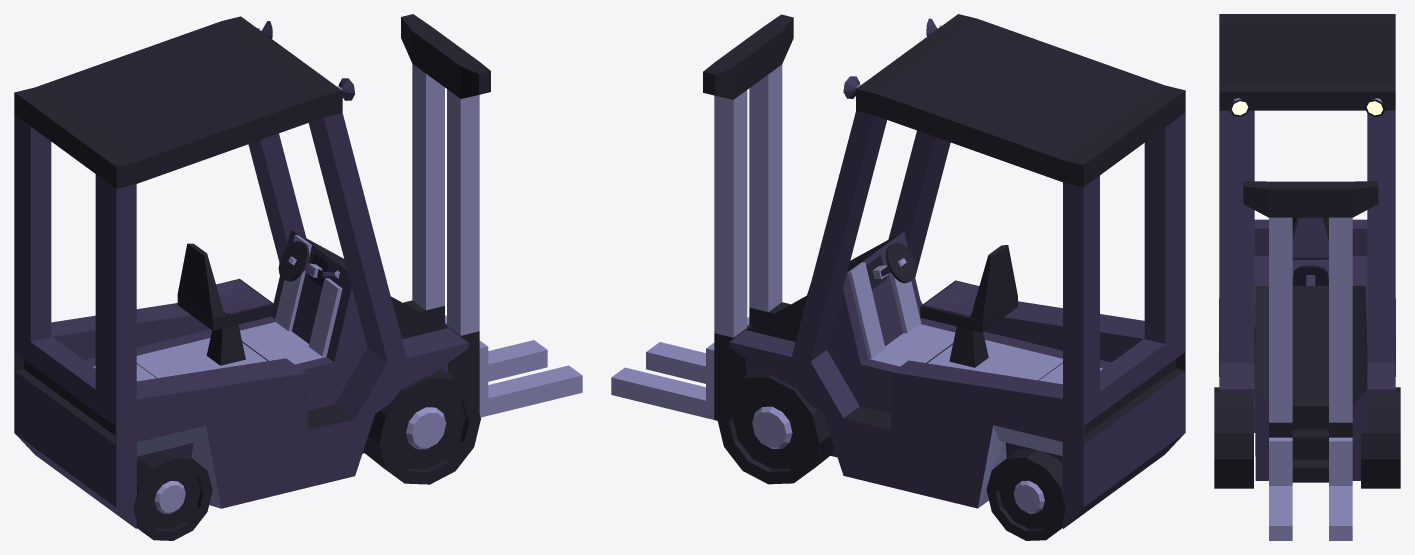
The model's file is Forklift.fbx.
3 renders of one model, left to right at view 1: azimuth 30°, elevation 25°; view 2: azimuth 150°, elevation 25°; view 3: azimuth 270°, elevation 25°, orthographic. The views are drawn at different scales.
Parts seen in each view (by area): view 1: Forklift; view 2: Forklift; view 3: Forklift.
Boxes of the visible parts, x1,y1,x2,y2 form: Forklift: [14, 14, 582, 540]; Forklift: [611, 14, 1185, 540]; Forklift: [1214, 14, 1400, 540].
Bounding box in the file's own units: 4.21 × 3.35 × 1.58.
